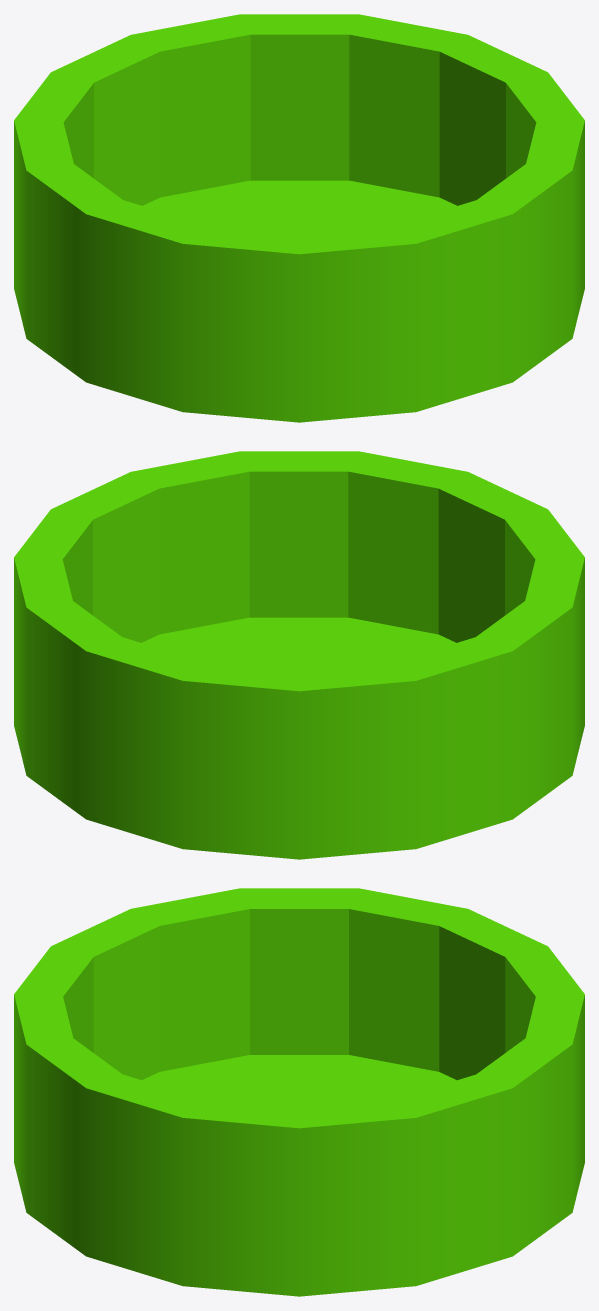
3 views of the same model, one above another, from view 1: azimuth 30°, elevation 25°; view 2: azimuth 150°, elevation 25°; view 3: azimuth 270°, elevation 25° (orthographic).
Visible parts, largest first — view 1: pCylinder13; view 2: pCylinder13; view 3: pCylinder13.
Boxes of the visible parts, bbox=[...] form: pCylinder13: bbox=[14, 14, 584, 422]; pCylinder13: bbox=[14, 451, 584, 859]; pCylinder13: bbox=[14, 888, 584, 1296].
Size of the model in its own units: 3.13 by 1.02 by 3.15.
